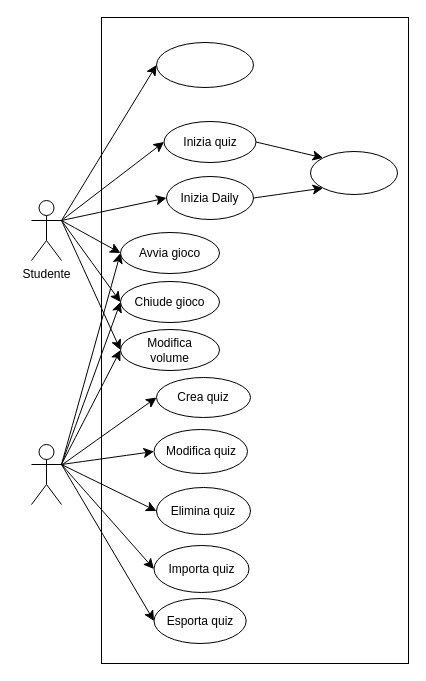
Image size: 426x681. Some labels were removed from this diagram. The box of each missing label's shape, as (x1, y1, x2, y2) in pixels:
Insegnante: (30, 444, 62, 504)
Riceve feedback: (310, 150, 398, 194)
Seleziona quiz: (156, 42, 254, 88)
